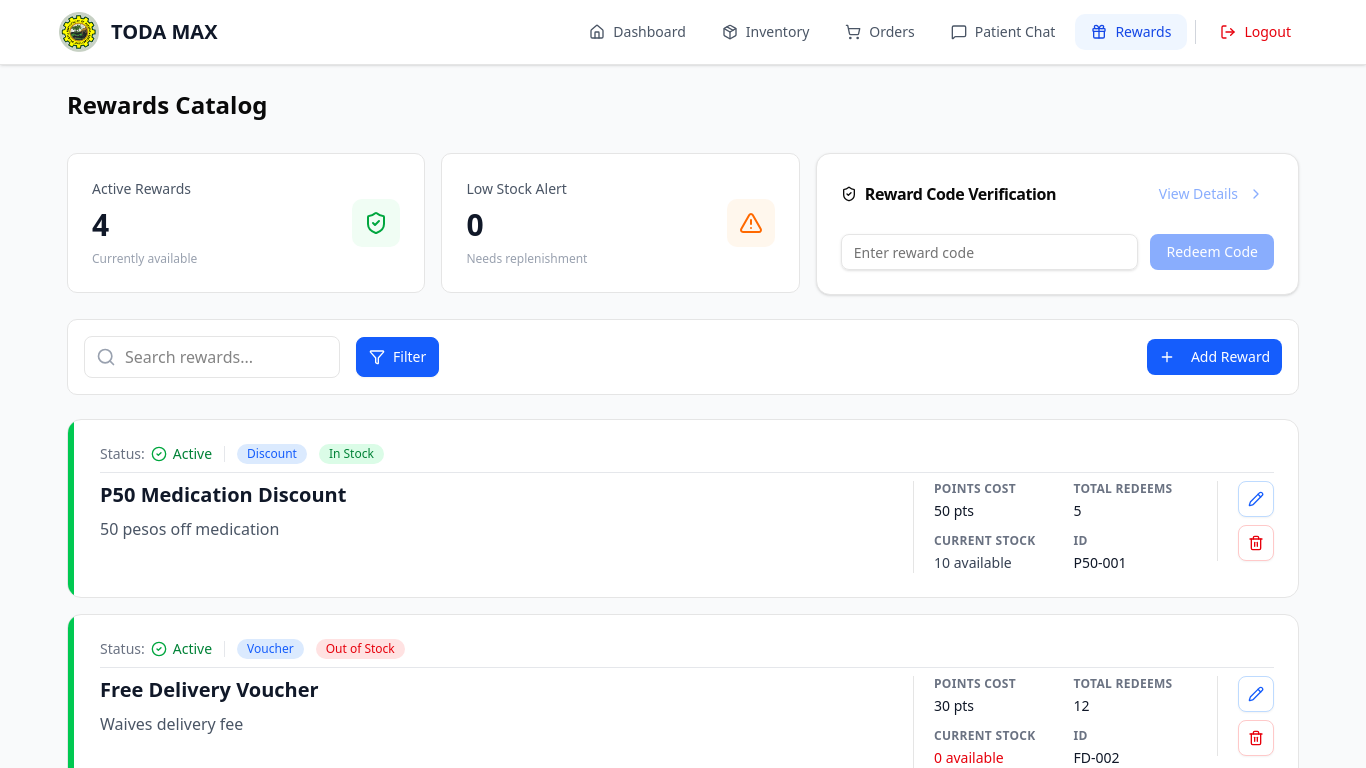
Test: Rewards Page › can filter rewards by category
Click the button "Filter".
click(398, 357)  # box [356,337,439,377]
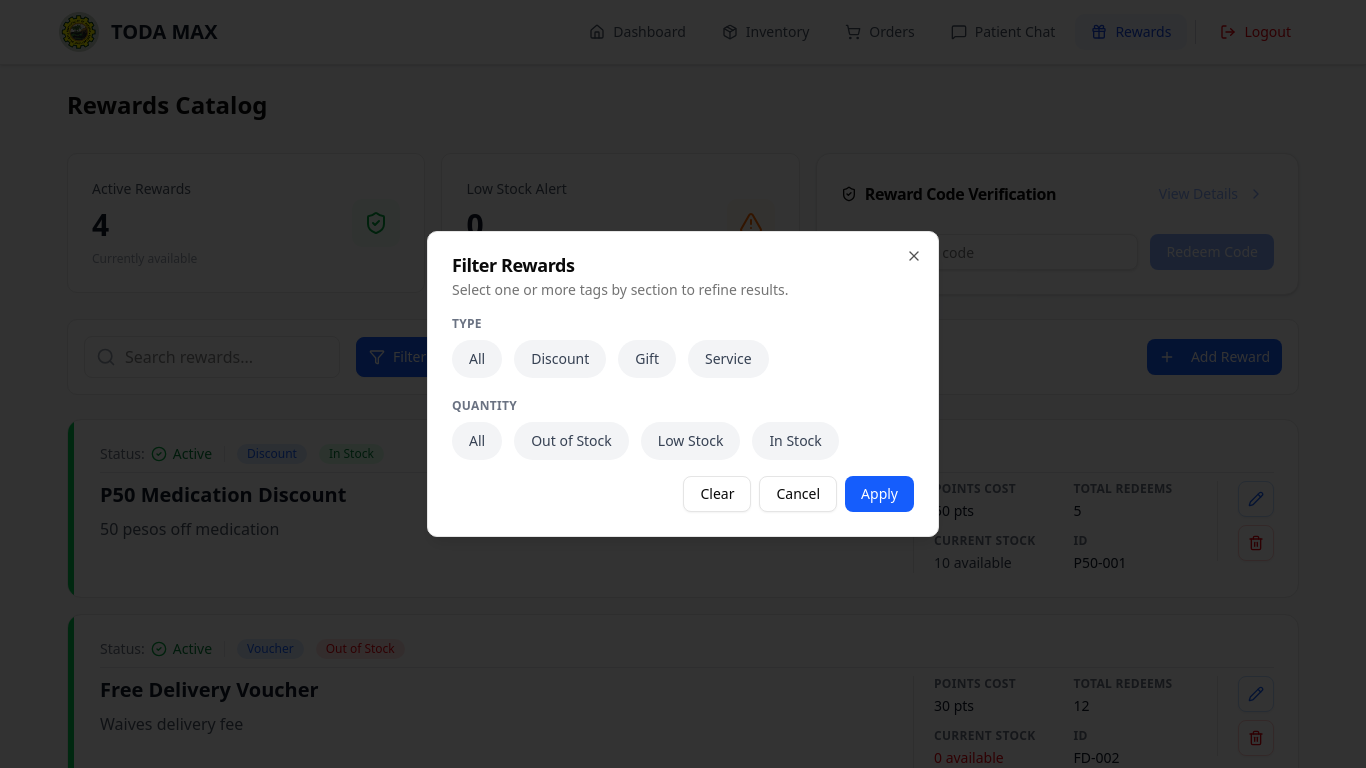
Now the heading "Filter Rewards" is shown, box [452,253,574,277]
Click the button "Discount".
click(560, 359)  # box [514,340,606,378]
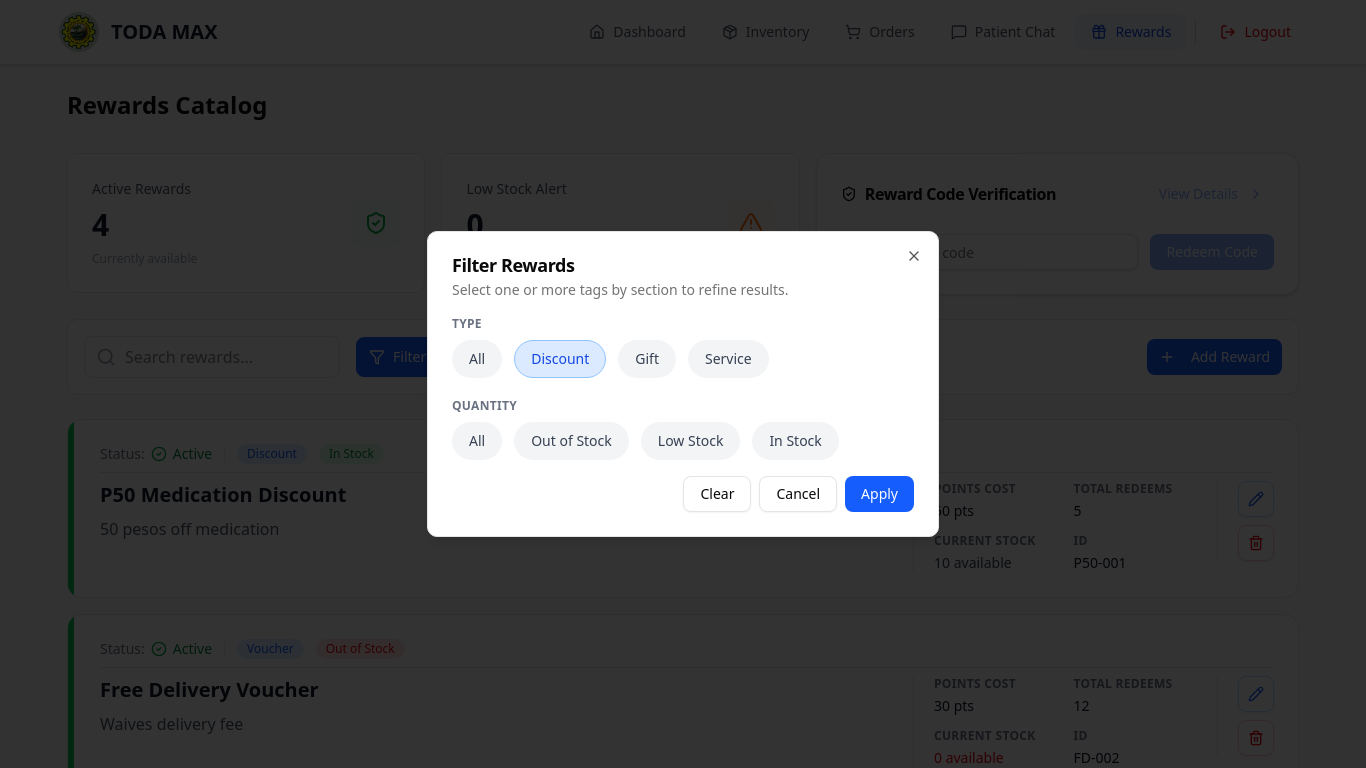
Click the button "Apply".
click(880, 494)  # box [845,476,914,512]
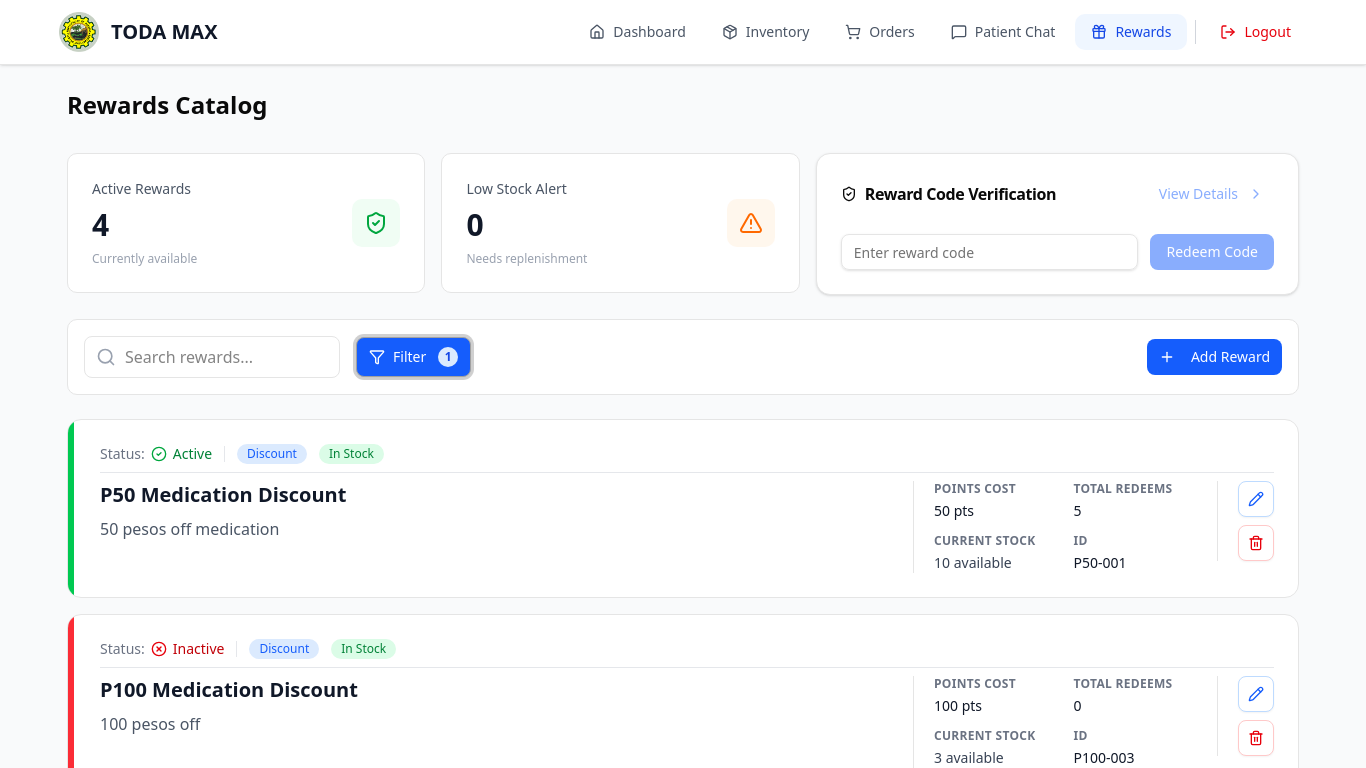
Expected: the heading "P50 Medication Discount" is shown, [100,481,346,508]
Now the heading "P100 Medication Discount" is shown, box [100,676,358,703]
Now the heading "Free Delivery Voucher" is gone
